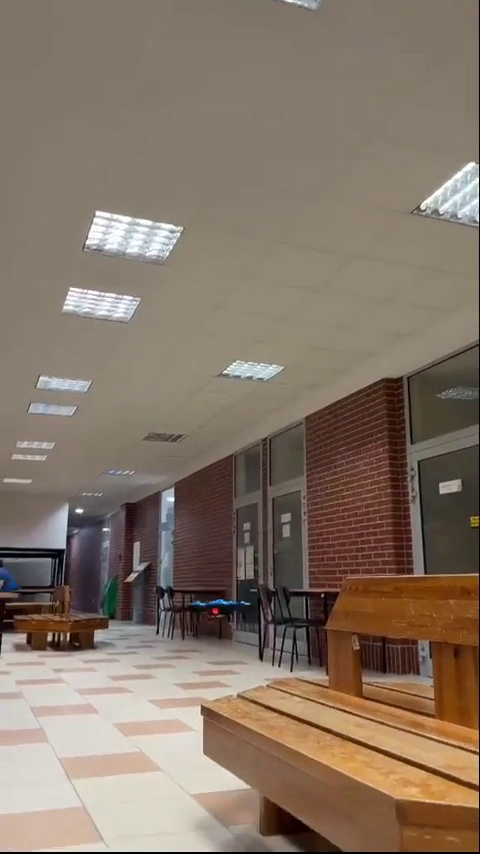drone: (186, 596, 258, 629)
